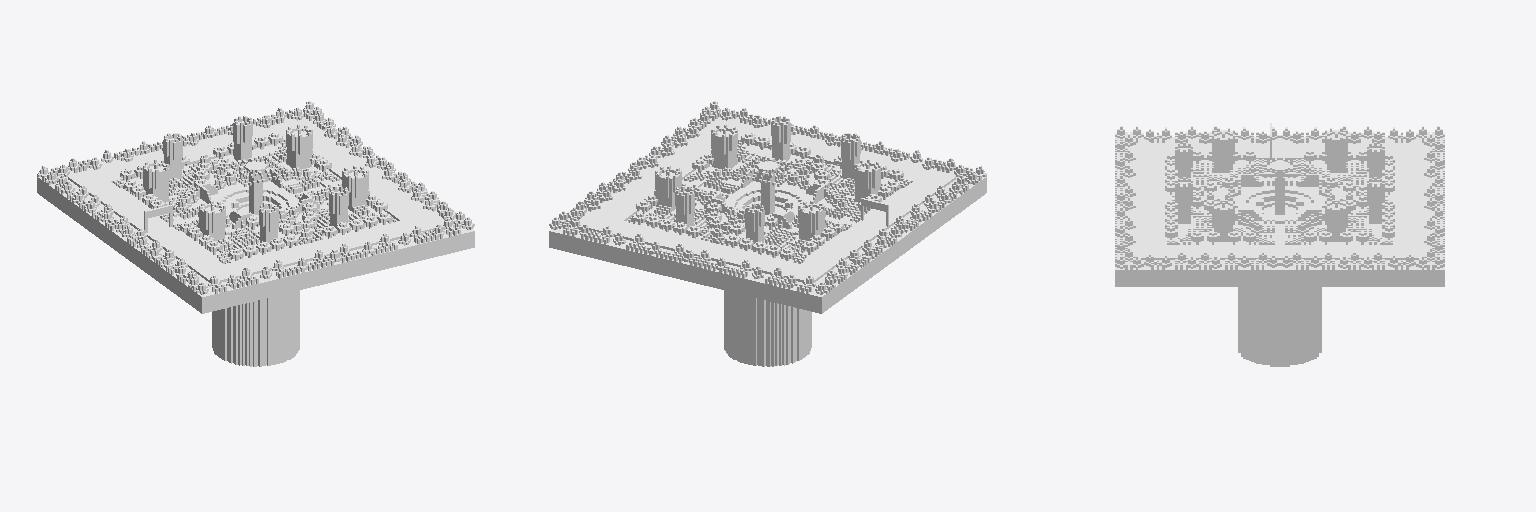
Rendered from MAP.obj.
3 renders of one model, left to right at view 1: azimuth 30°, elevation 25°; view 2: azimuth 150°, elevation 25°; view 3: azimuth 270°, elevation 25°, orthographic.
Size of the model in its own units: 122 by 78 by 126.